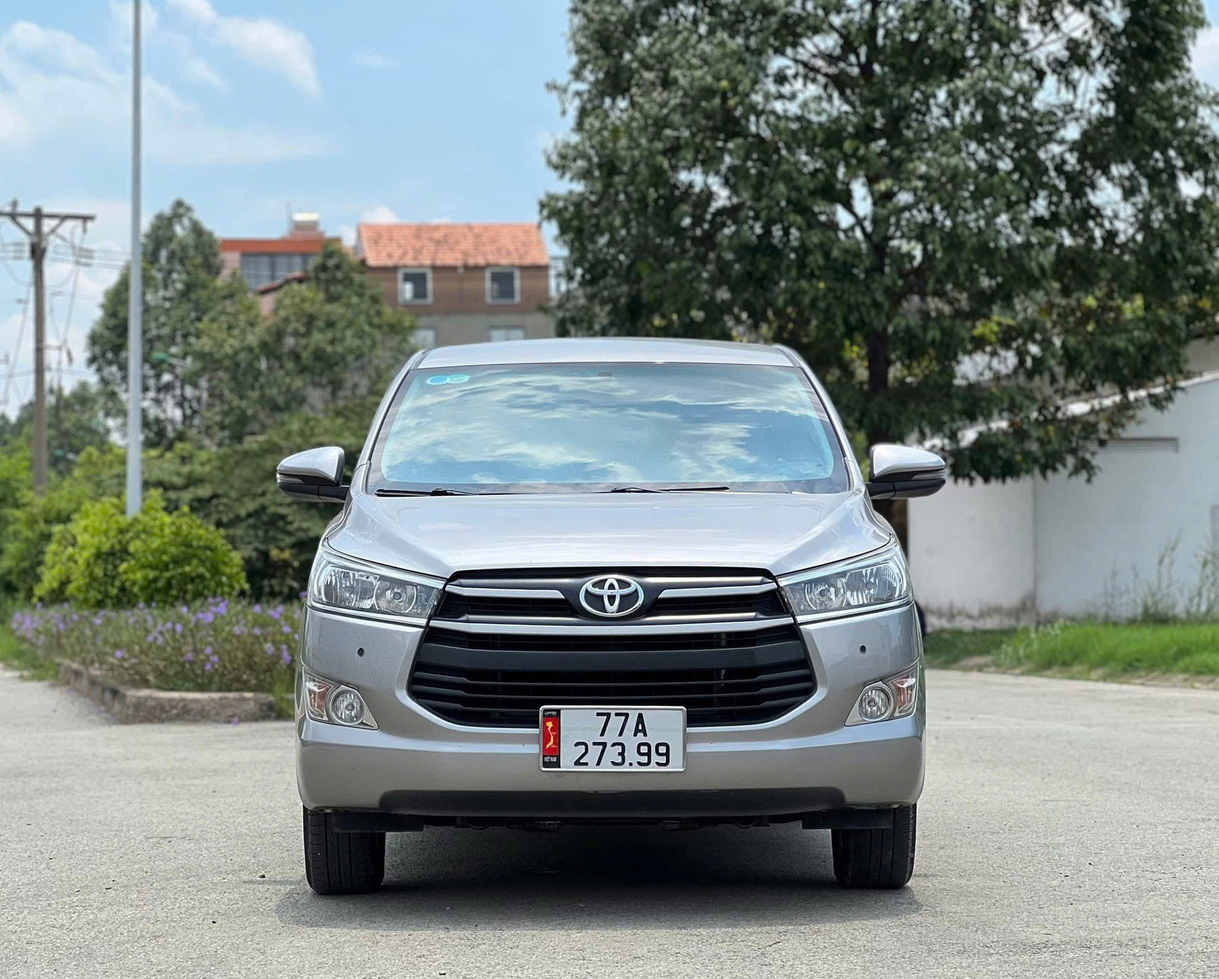Bien-so: (563, 709, 689, 781)
